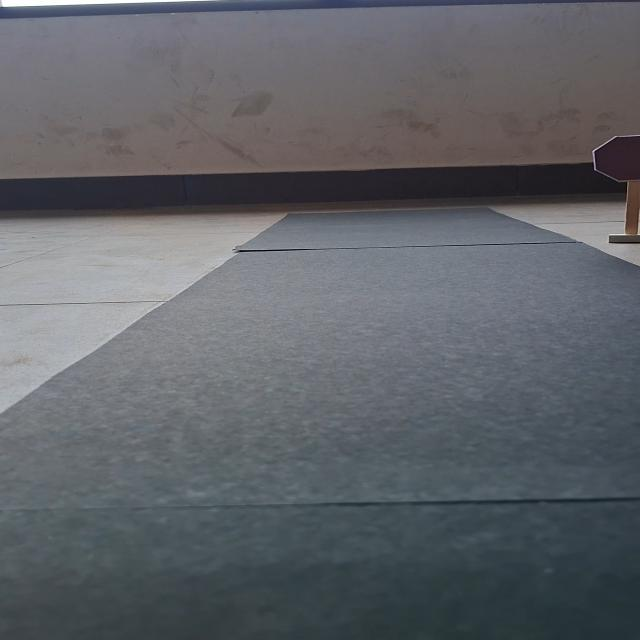Stop: (592, 134, 640, 182)
